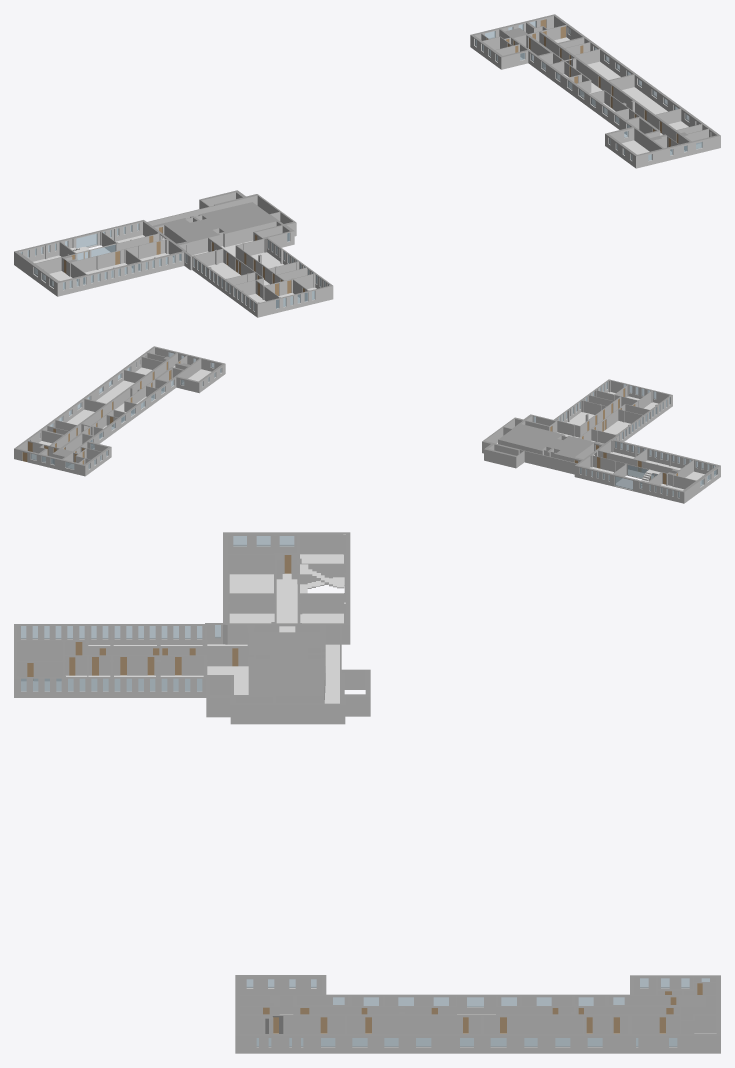
The model's file is VeaModel2.glb.
The picture shows the model from 3 angles, top to bottom: view 1: azimuth 30°, elevation 25°; view 2: azimuth 150°, elevation 25°; view 3: azimuth 270°, elevation 25°; orthographic projection. The views are drawn at different scales.
Parts seen in each view (by area): view 1: 2ACD; view 2: 2ACD; view 3: 2ACD.
Boxes of the visible parts, x1,y1,x2,y2 form: 2ACD: (14,14,720,317); 2ACD: (14,346,720,503); 2ACD: (14,532,720,1053).
Size of the model in its own units: 4.36 by 0.1911 by 2.73.
